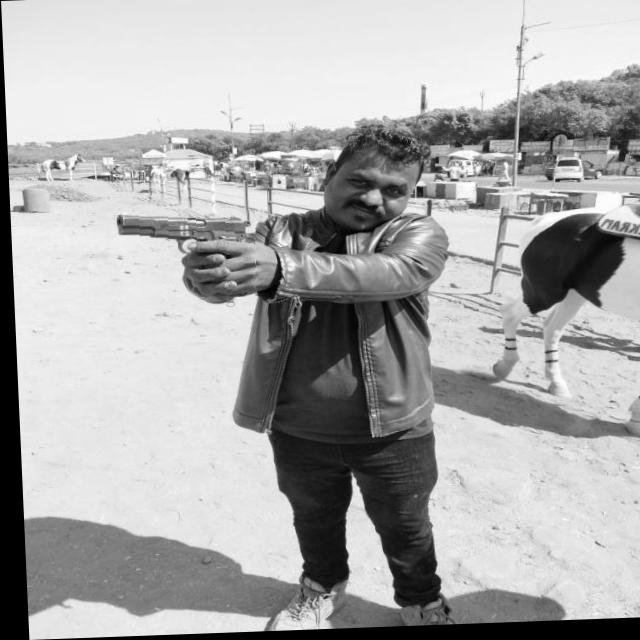handgun: (106, 208, 254, 301)
